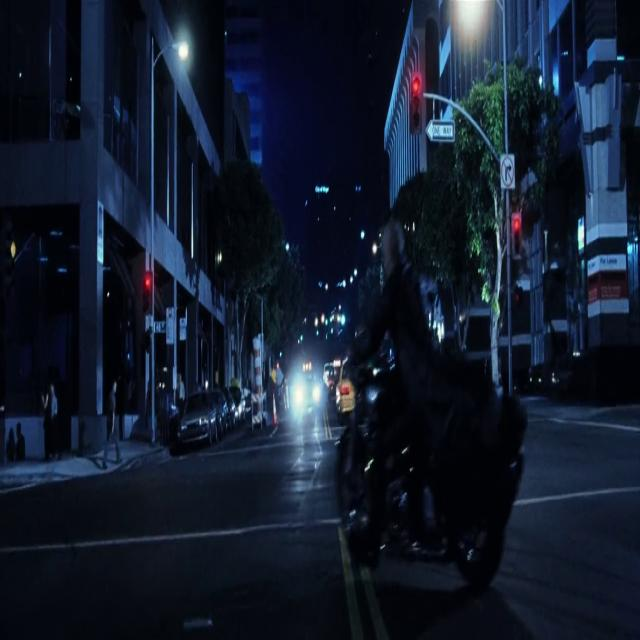Car: (178, 364, 248, 454), (310, 352, 362, 436)
Motorbike: (333, 302, 509, 575)
